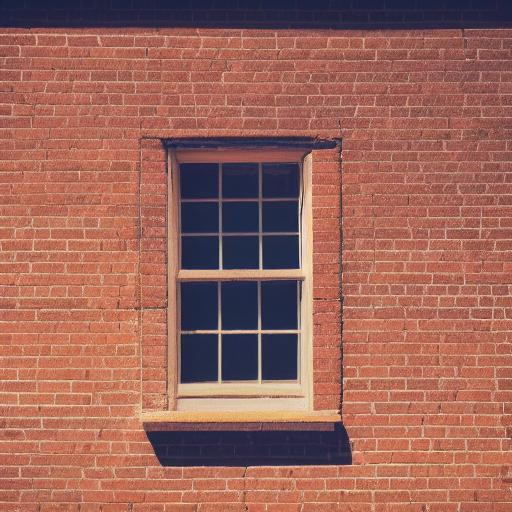Window: (138, 122, 344, 436)
